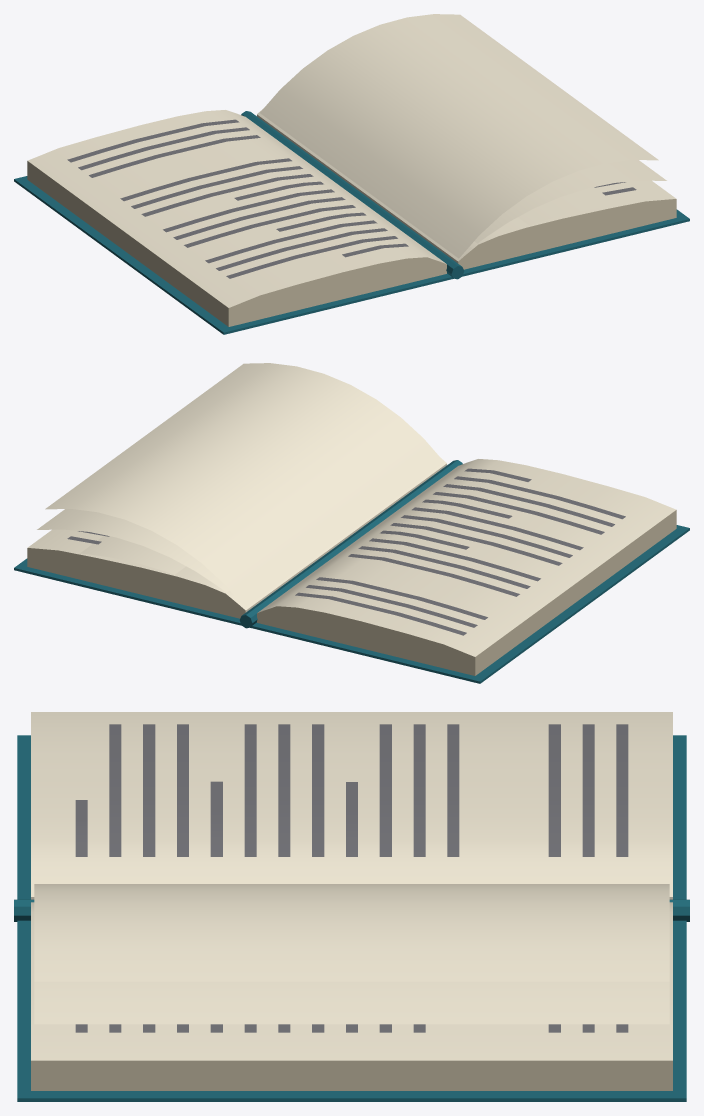
File: book.glb
3 renders of one model, top to bottom at view 1: azimuth 30°, elevation 25°; view 2: azimuth 150°, elevation 25°; view 3: azimuth 270°, elevation 25°, orthographic. The views are drawn at different scales.
Parts seen in each view (by area): view 1: book; view 2: book; view 3: book.
Boxes of the visible parts, box(x1,y1,x2,y2) form: book: box(14, 14, 689, 334); book: box(14, 363, 689, 683); book: box(14, 712, 689, 1101).
Bounding box in the file's own units: 0.254 × 0.0384 × 0.2.
